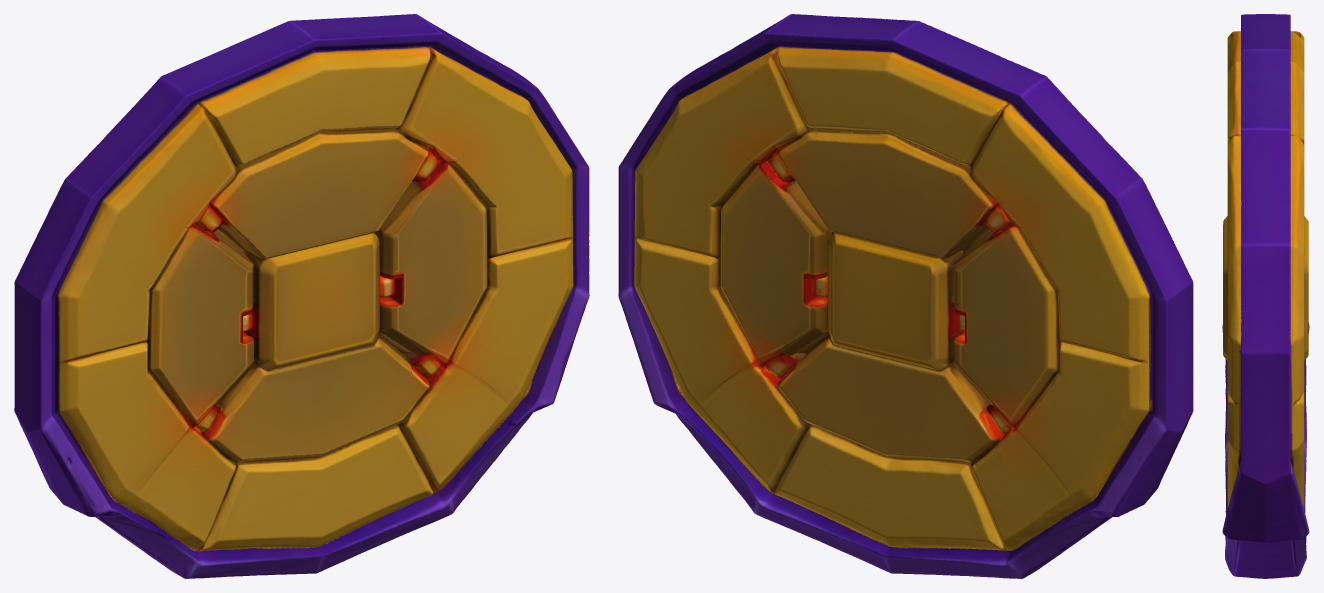
The model's file is tripo_convert_30bbdae6-c7bf-42b9-a691-55c803251b5d.fbx.
3 views of the same model, side by side, from view 1: azimuth 30°, elevation 25°; view 2: azimuth 150°, elevation 25°; view 3: azimuth 270°, elevation 25° (orthographic). The views are drawn at different scales.
Parts seen in each view (by area): view 1: tripo_node_30bbdae6; view 2: tripo_node_30bbdae6; view 3: tripo_node_30bbdae6.
Boxes of the visible parts, x1,y1,x2,y2 form: tripo_node_30bbdae6: (14,14,589,578); tripo_node_30bbdae6: (618,14,1193,578); tripo_node_30bbdae6: (1222,14,1309,578).
Bounding box in the file's own units: 1 × 0.9352 × 0.1481.
1 material, 1 textured.
